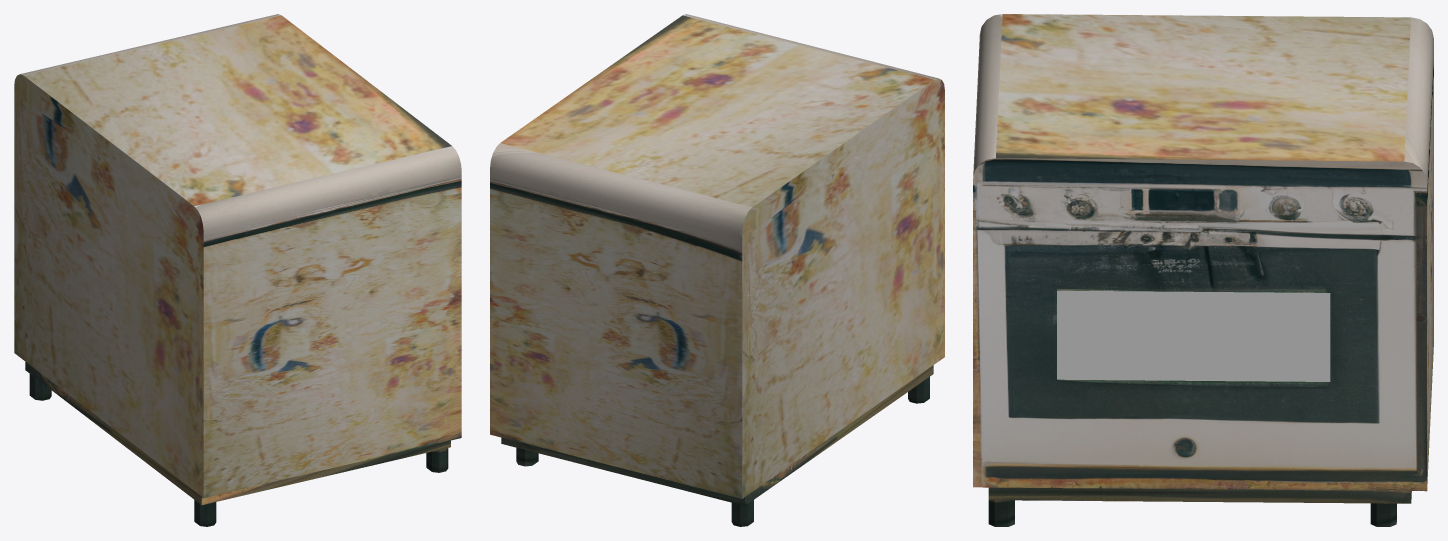
The model's file is SM_Scene_A_Furniture01.008.fbx.
3 renders of one model, left to right at view 1: azimuth 30°, elevation 25°; view 2: azimuth 150°, elevation 25°; view 3: azimuth 270°, elevation 25°, orthographic. The views are drawn at different scales.
Visible parts, largest first — view 1: SM_Scene_A_Furniture01.008; view 2: SM_Scene_A_Furniture01.008; view 3: SM_Scene_A_Furniture01.008.
Part boxes in pixels (x1,y1,x2,y2): SM_Scene_A_Furniture01.008: (14,14,461,526); SM_Scene_A_Furniture01.008: (490,14,944,526); SM_Scene_A_Furniture01.008: (973,14,1433,526).
Bounding box in the file's own units: 101 × 119 × 133.
